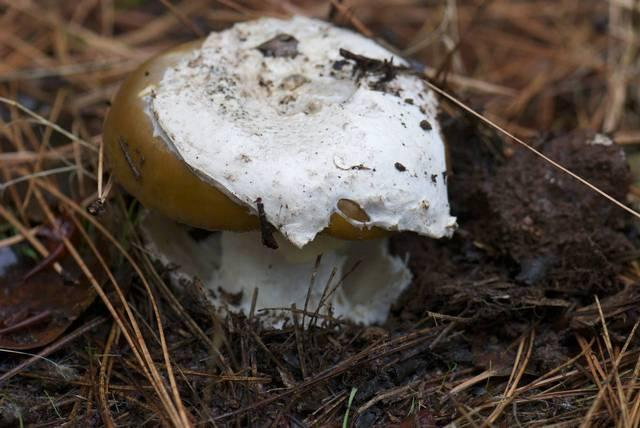edible_mushroom: (100, 13, 459, 330)
